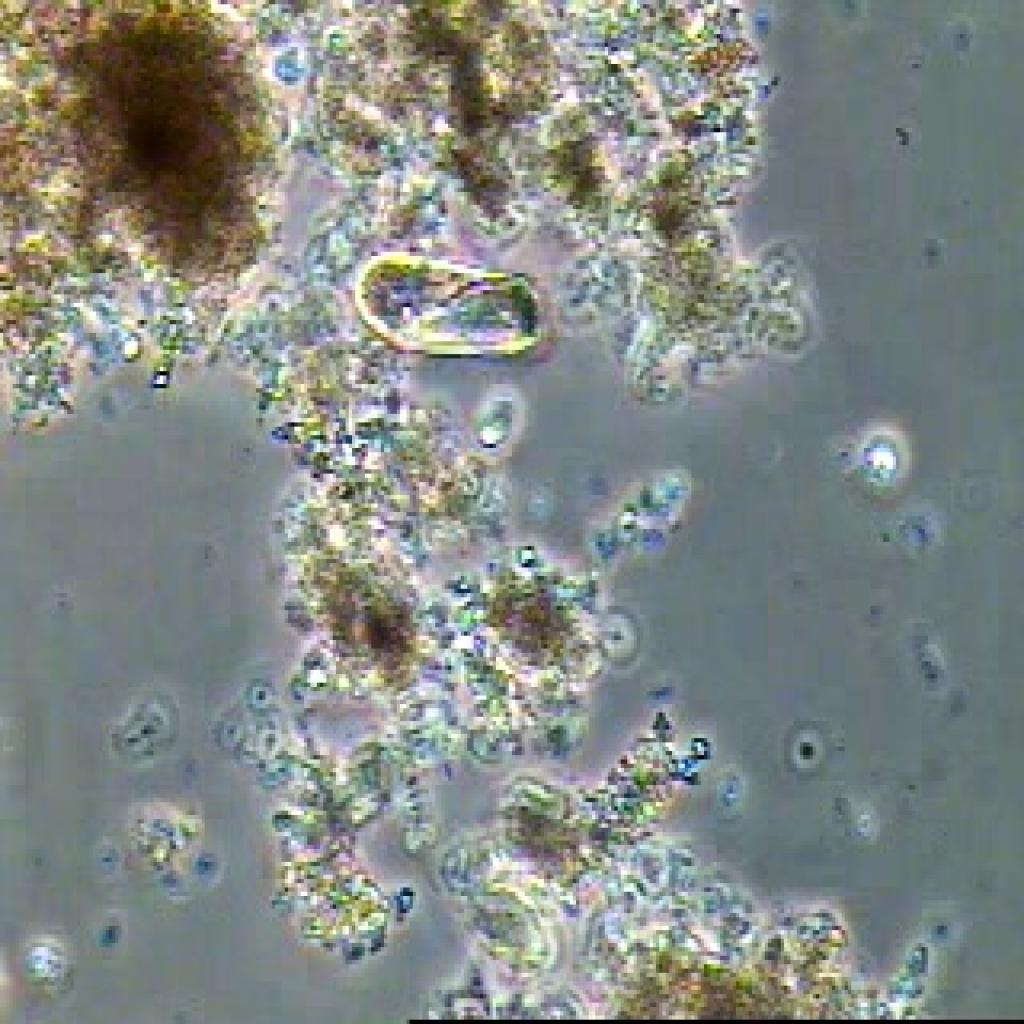Paramecium: (350, 243, 581, 380)
